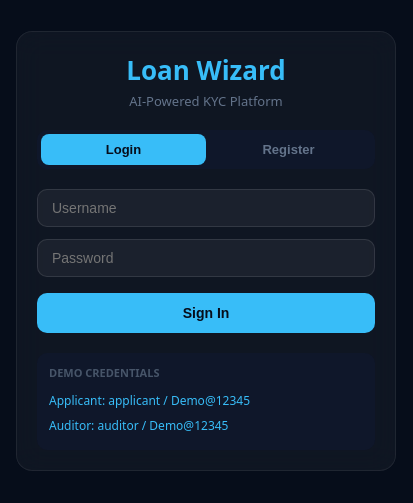
Test: shows generic error when no detail in response
Type "user" into the field with placeholder "Username" at (206, 208), box top-left (37, 189), bottom-right (375, 227)
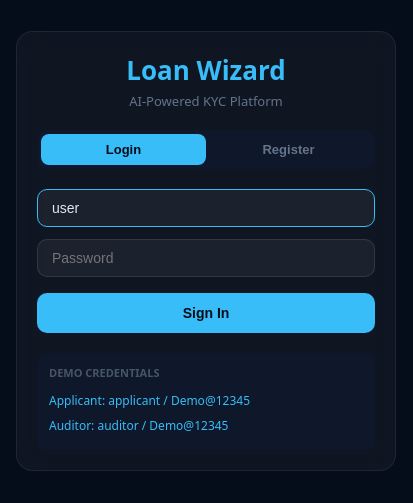
Type "pass" into the password field with placeholder "Password" at (206, 258), box top-left (37, 239), bottom-right (375, 277)
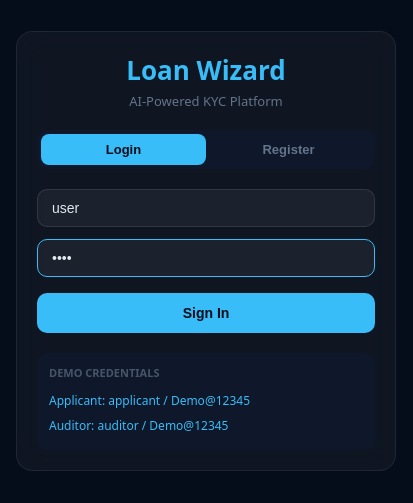
Click the button "Sign In" at (206, 313), box top-left (37, 293), bottom-right (375, 333)
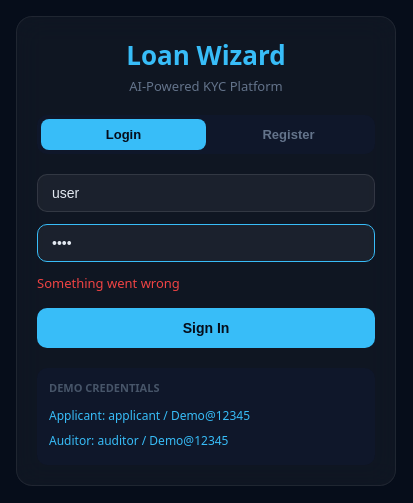
Now the text "Something went wrong" is shown, box top-left (37, 274), bottom-right (180, 292)
